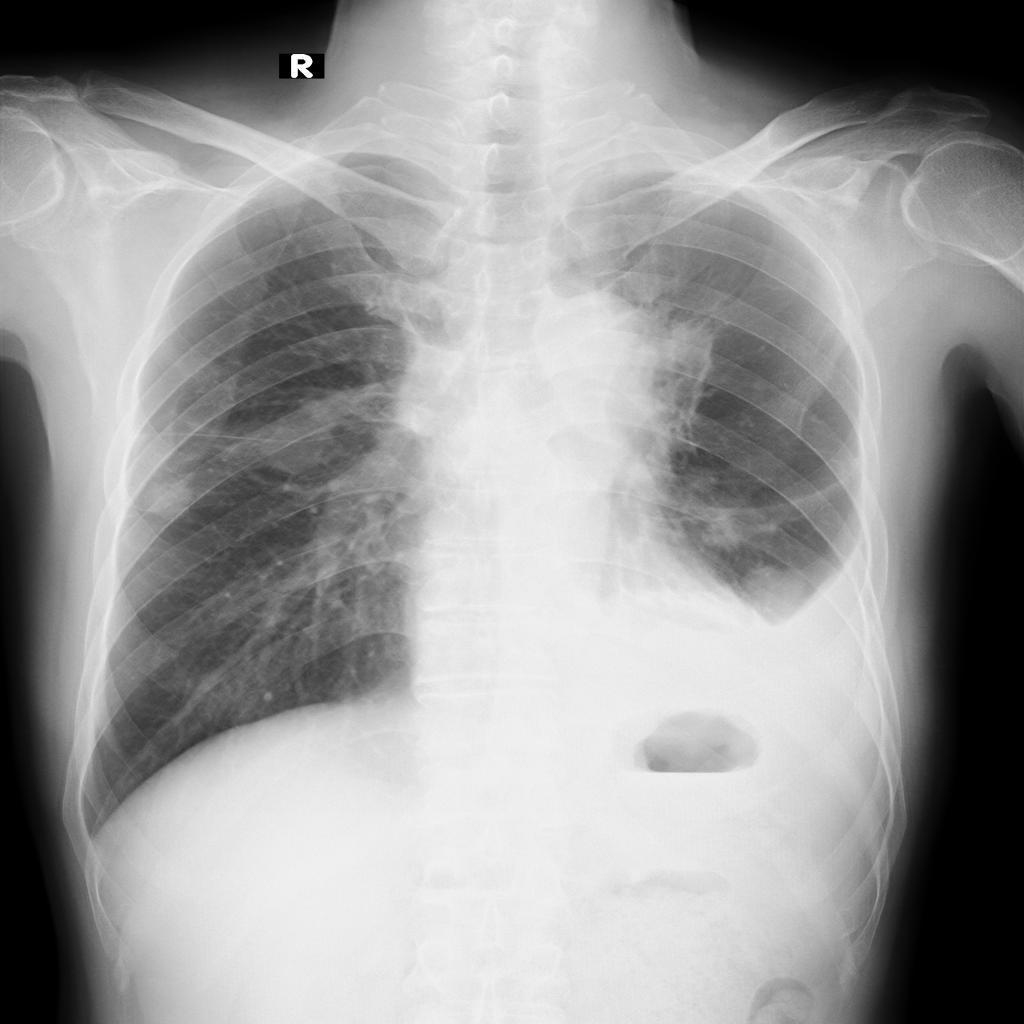Nodule: (587, 300, 715, 483), (255, 420, 336, 473), (739, 564, 811, 619), (143, 480, 195, 523), (700, 520, 744, 552), (683, 466, 720, 493)
